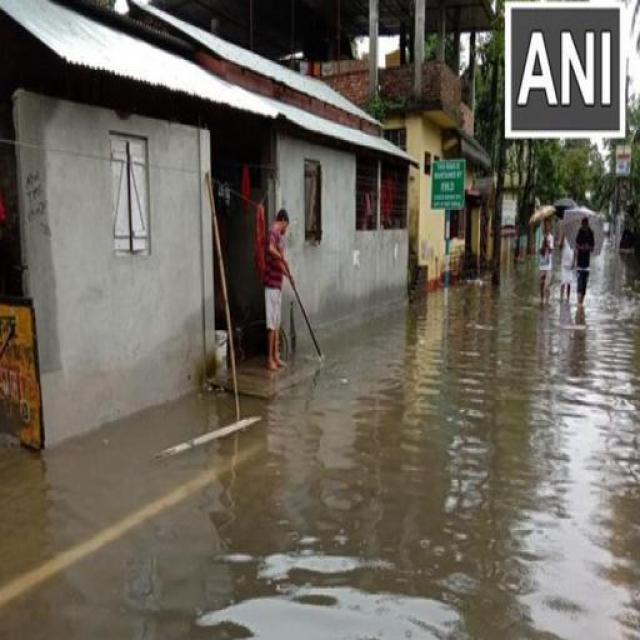puddle: (198, 391, 583, 582), (421, 295, 625, 631), (1, 459, 206, 640)
